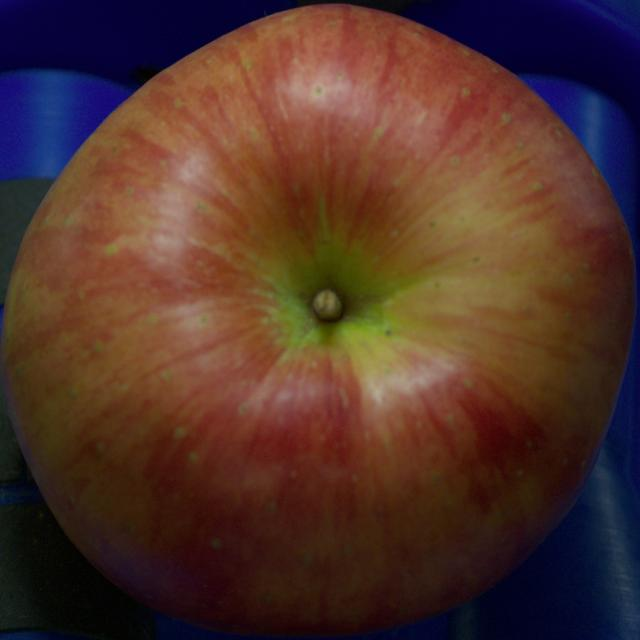apple: (1, 5, 636, 635)
